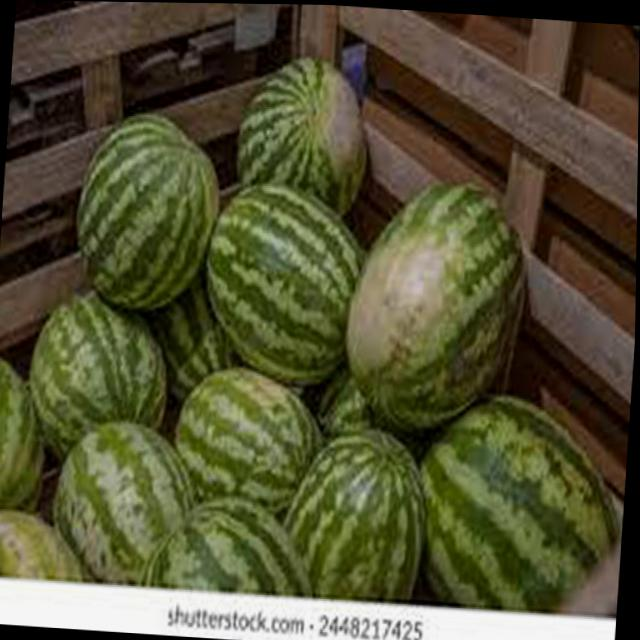watermelon: (341, 175, 532, 436), (416, 390, 626, 613), (202, 179, 367, 385), (72, 108, 223, 313), (282, 422, 432, 601), (50, 417, 200, 587), (173, 363, 328, 512), (235, 52, 374, 217), (27, 287, 173, 442), (163, 492, 318, 594), (0, 356, 49, 516), (0, 358, 45, 509), (0, 508, 90, 580), (150, 297, 216, 368)
